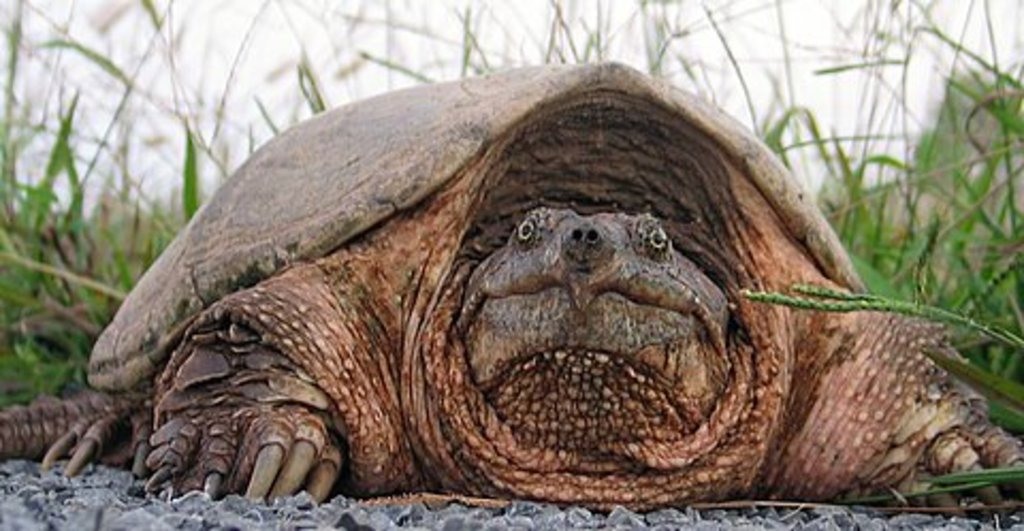Sea turtles: (0, 61, 1023, 503)
